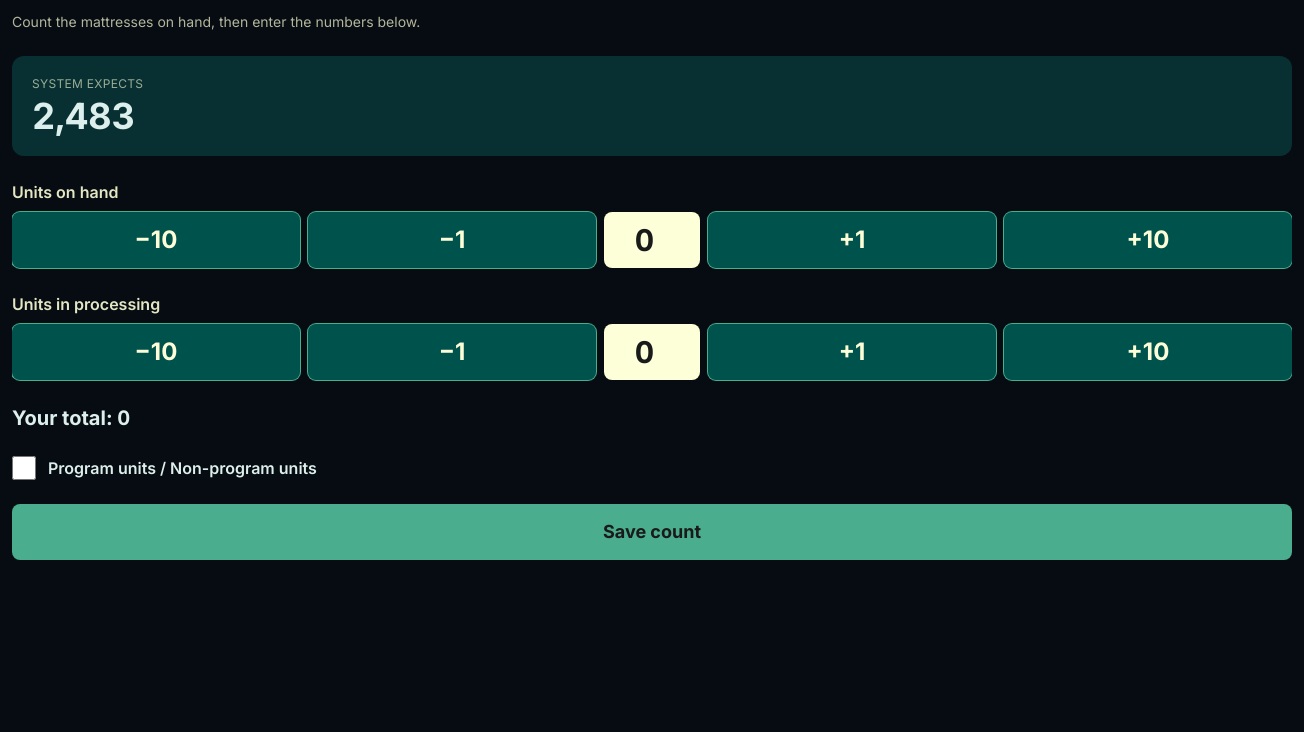
Test: 422 date_not_today — the midnight-boundary save › offers a control, and that control re-renders the page from the server
Click the button "Save count" at (652, 532), box [12, 504, 1292, 560]
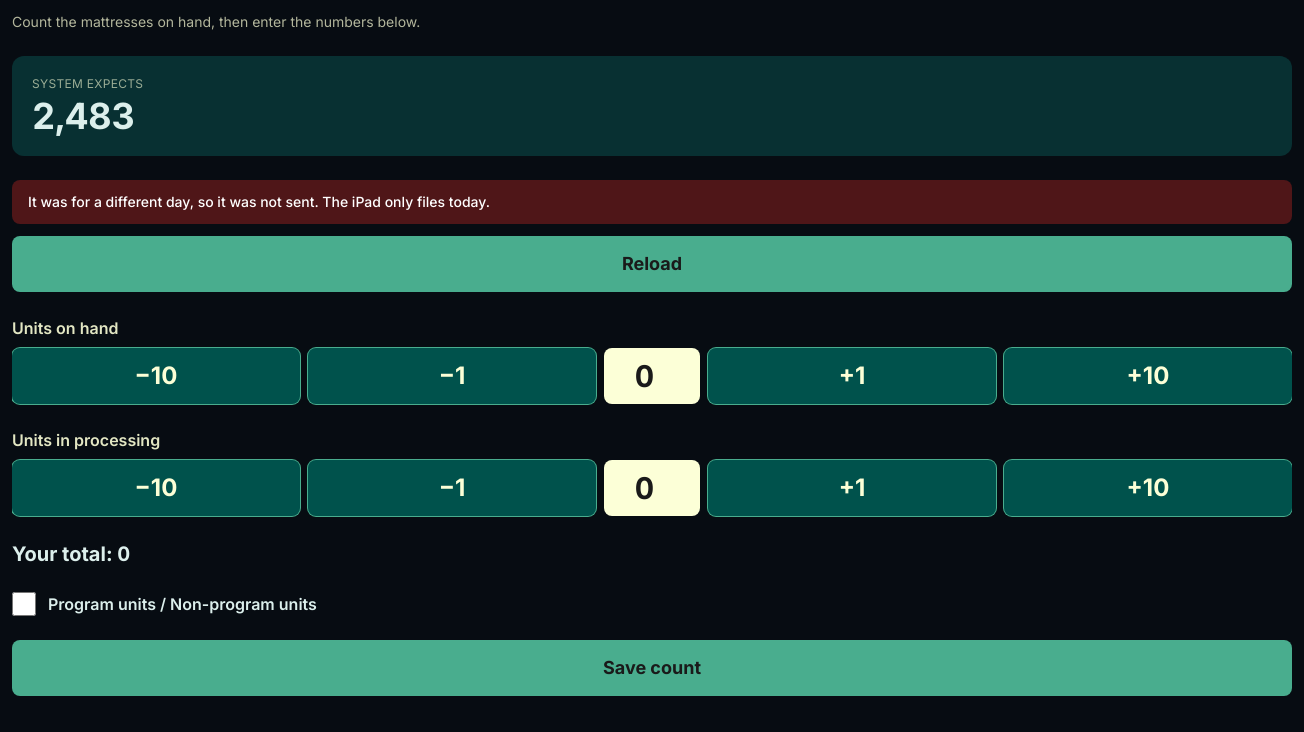
Check: the button with test id "write-refusal-refresh" reads "Reload"
Click the button with test id "write-refusal-refresh" at (652, 264), box [12, 236, 1292, 292]
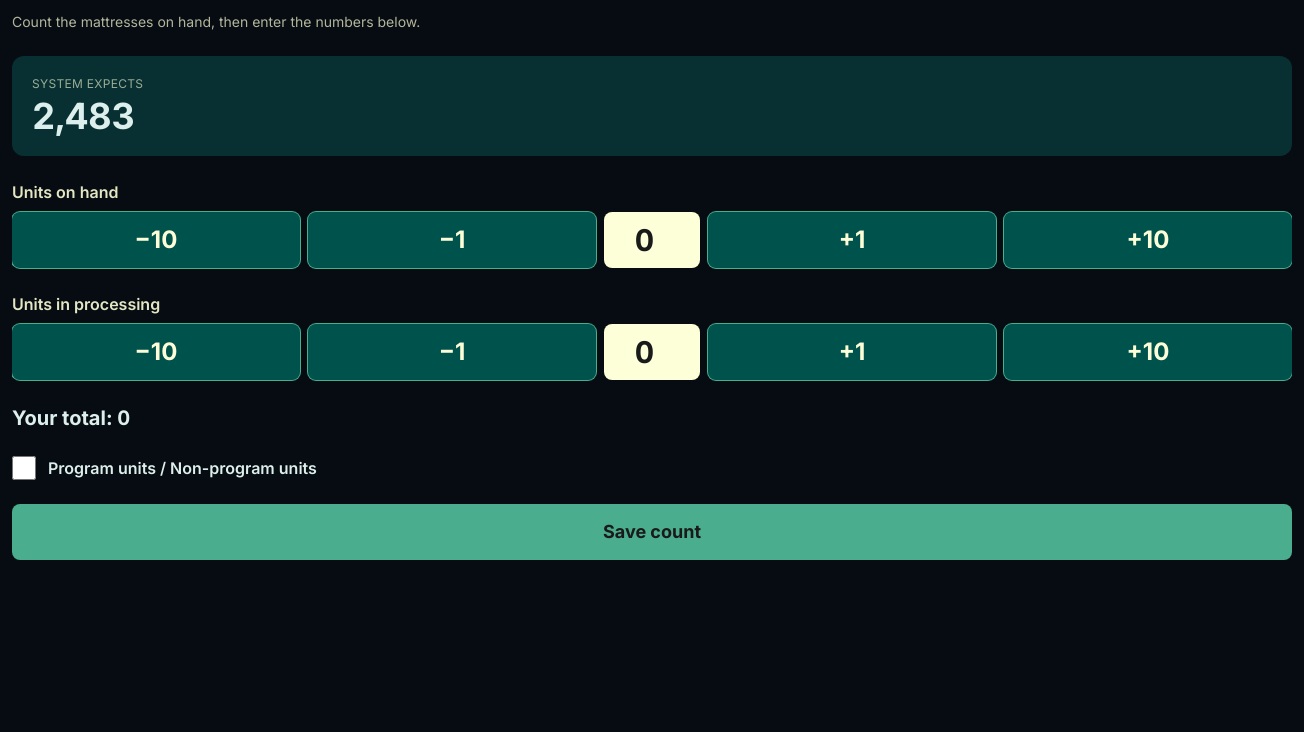
Check: the element with test id "write-refusal" is gone
